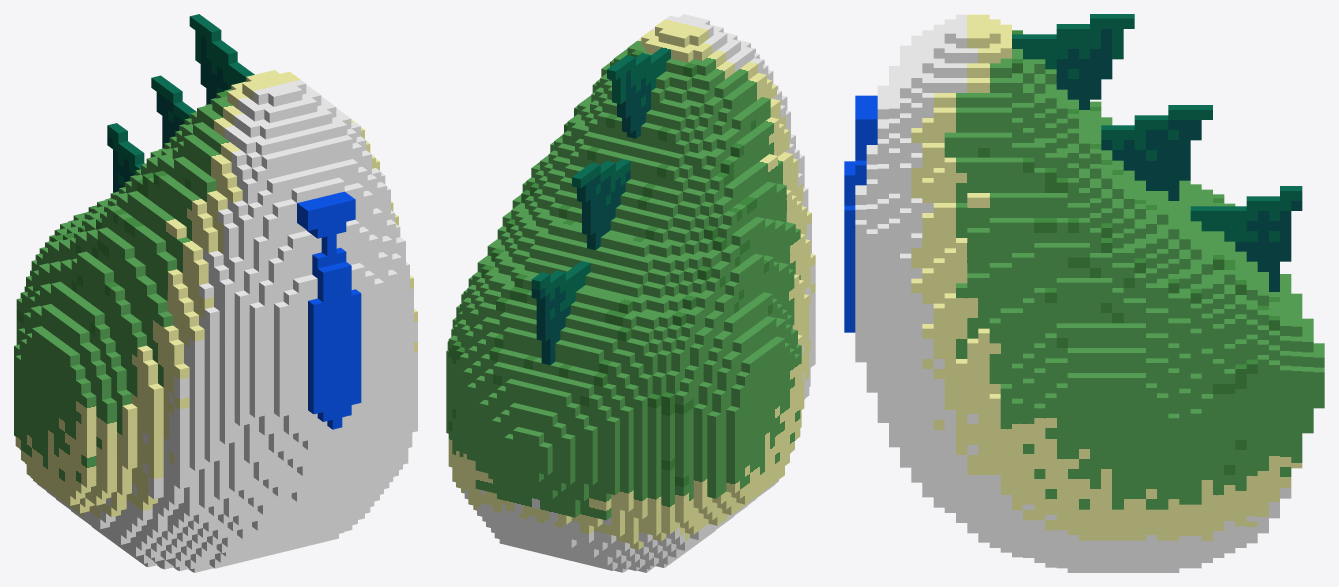
File: blue tie.gltf
3 renders of one model, left to right at view 1: azimuth 30°, elevation 25°; view 2: azimuth 150°, elevation 25°; view 3: azimuth 270°, elevation 25°, orthographic. The views are drawn at different scales.
Parts seen in each view (by area): view 1: 04_Body_BlueTie-Mesh; view 2: 04_Body_BlueTie-Mesh; view 3: 04_Body_BlueTie-Mesh.
Part boxes in pixels (x1,y1,x2,y2): 04_Body_BlueTie-Mesh: (14,14,417,572); 04_Body_BlueTie-Mesh: (446,14,815,572); 04_Body_BlueTie-Mesh: (844,14,1324,572).
Bounding box in the file's own units: 33 × 51 × 43.
1 material, 1 textured.
